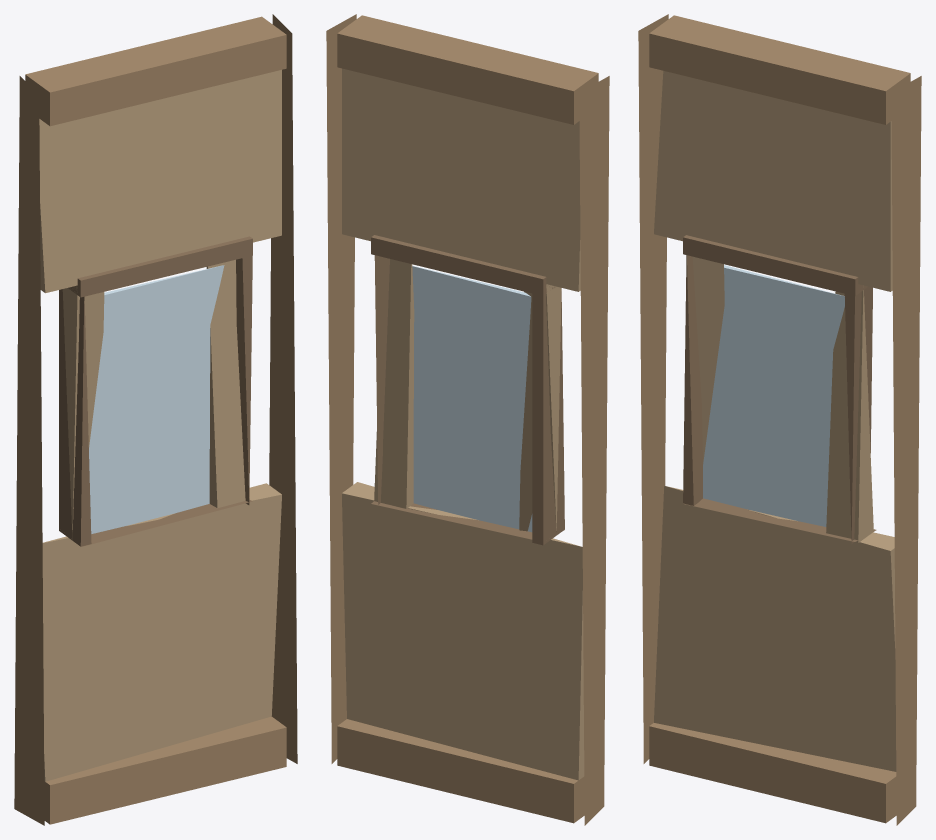
File: 18-Casas_pared_ventana.glb
The picture shows the model from 3 angles, left to right: view 1: azimuth 30°, elevation 25°; view 2: azimuth 150°, elevation 25°; view 3: azimuth 330°, elevation 25°; orthographic projection.
Visible parts, largest first — view 1: SM_ParedV_M_Pared_Madera_Panel, SM_ParedV_M_Pared_Madera_Poste, SM_ParedV_M_Pared_Vidrio, SM_ParedV_M_Pared_Marco_Ventana; view 2: SM_ParedV_M_Pared_Madera_Panel, SM_ParedV_M_Pared_Madera_Poste, SM_ParedV_M_Pared_Vidrio, SM_ParedV_M_Pared_Marco_Ventana; view 3: SM_ParedV_M_Pared_Madera_Panel, SM_ParedV_M_Pared_Madera_Poste, SM_ParedV_M_Pared_Vidrio, SM_ParedV_M_Pared_Marco_Ventana.
Boxes of the visible parts, <box> form: SM_ParedV_M_Pared_Madera_Panel: <box>39,70,281,781</box>; SM_ParedV_M_Pared_Madera_Poste: <box>14,14,297,825</box>; SM_ParedV_M_Pared_Vidrio: <box>89,265,224,533</box>; SM_ParedV_M_Pared_Marco_Ventana: <box>59,236,252,546</box>; SM_ParedV_M_Pared_Madera_Panel: <box>342,68,584,780</box>; SM_ParedV_M_Pared_Madera_Poste: <box>326,14,609,825</box>; SM_ParedV_M_Pared_Vidrio: <box>412,266,532,532</box>; SM_ParedV_M_Pared_Marco_Ventana: <box>371,235,564,545</box>; SM_ParedV_M_Pared_Madera_Panel: <box>654,71,896,771</box>; SM_ParedV_M_Pared_Madera_Poste: <box>638,14,921,825</box>; SM_ParedV_M_Pared_Vidrio: <box>703,265,844,526</box>; SM_ParedV_M_Pared_Marco_Ventana: <box>683,235,876,543</box>.
Bounding box in the file's own units: 0.96 × 2.6 × 0.16.
